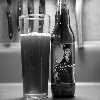beer: (18, 15, 52, 99)
